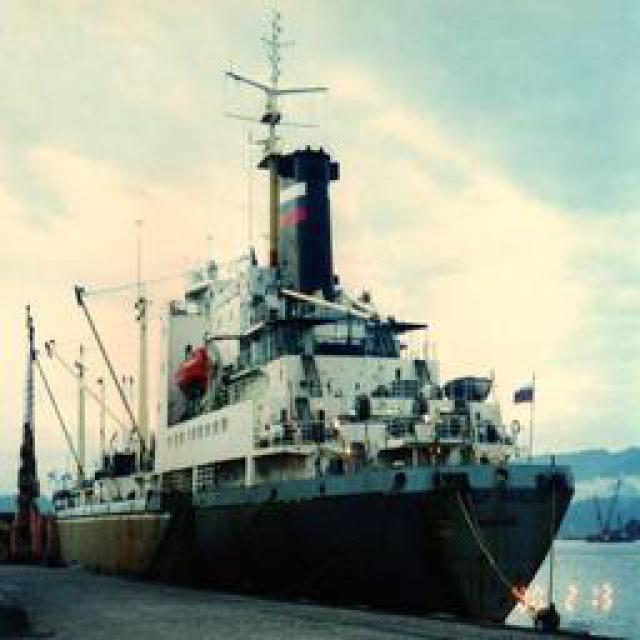Ship: (35, 75, 581, 629)
